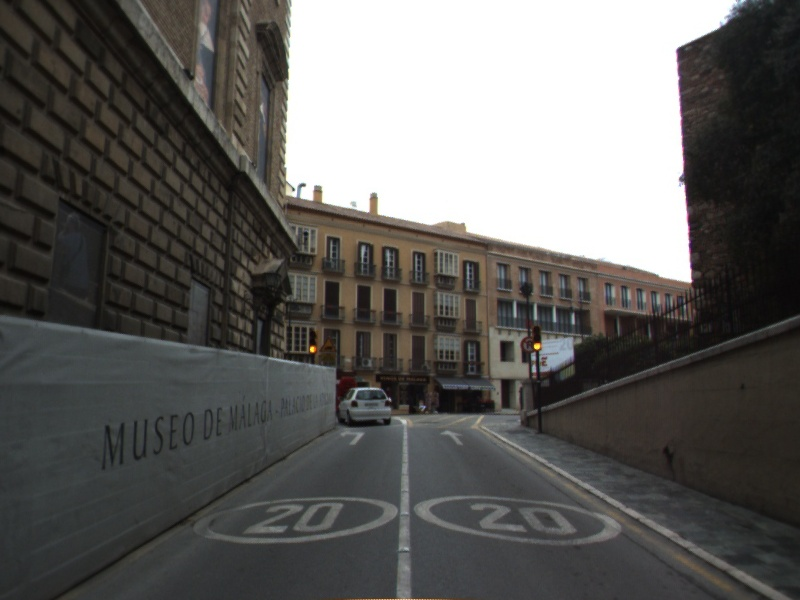LEFT: (338, 428, 367, 447)
STRAIGHT: (438, 428, 465, 447)
